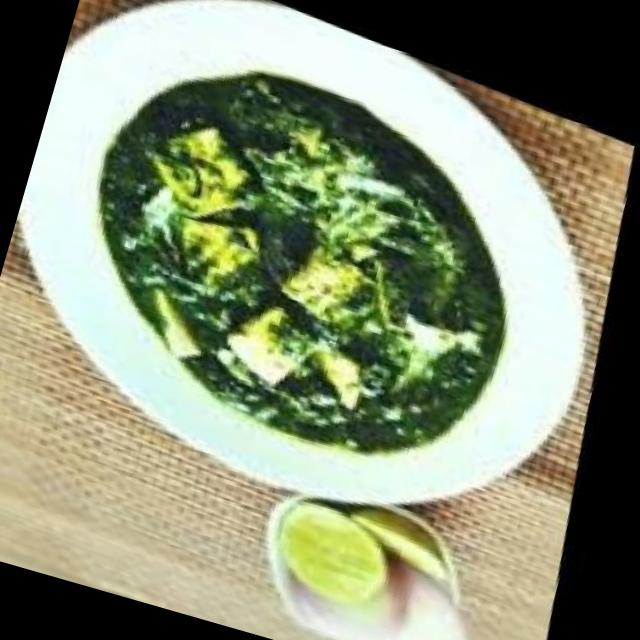palak_paneer: (37, 10, 585, 498)
